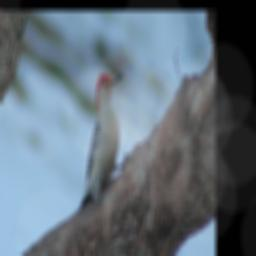Woodpecker: (78, 71, 125, 211)
